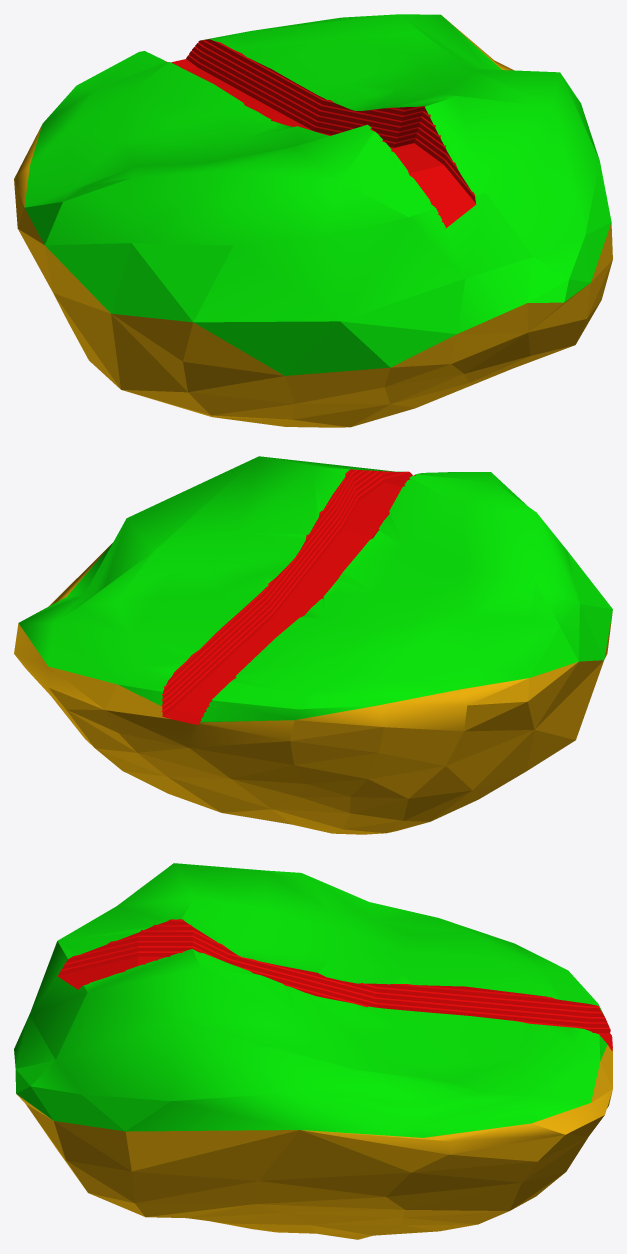
File: LandChunkE_Trench.fbx
3 renders of one model, top to bottom at view 1: azimuth 30°, elevation 25°; view 2: azimuth 150°, elevation 25°; view 3: azimuth 270°, elevation 25°, orthographic. The views are drawn at different scales.
Parts seen in each view (by area): view 1: LandChunkE_Trench; view 2: LandChunkE_Trench; view 3: LandChunkE_Trench.
Boxes of the visible parts, left/top/right/bottom form: LandChunkE_Trench: left=14, top=14, right=612, bottom=427; LandChunkE_Trench: left=14, top=456, right=612, bottom=834; LandChunkE_Trench: left=14, top=863, right=612, bottom=1239.
Size of the model in its own units: 59.76 by 33.63 by 62.78.
